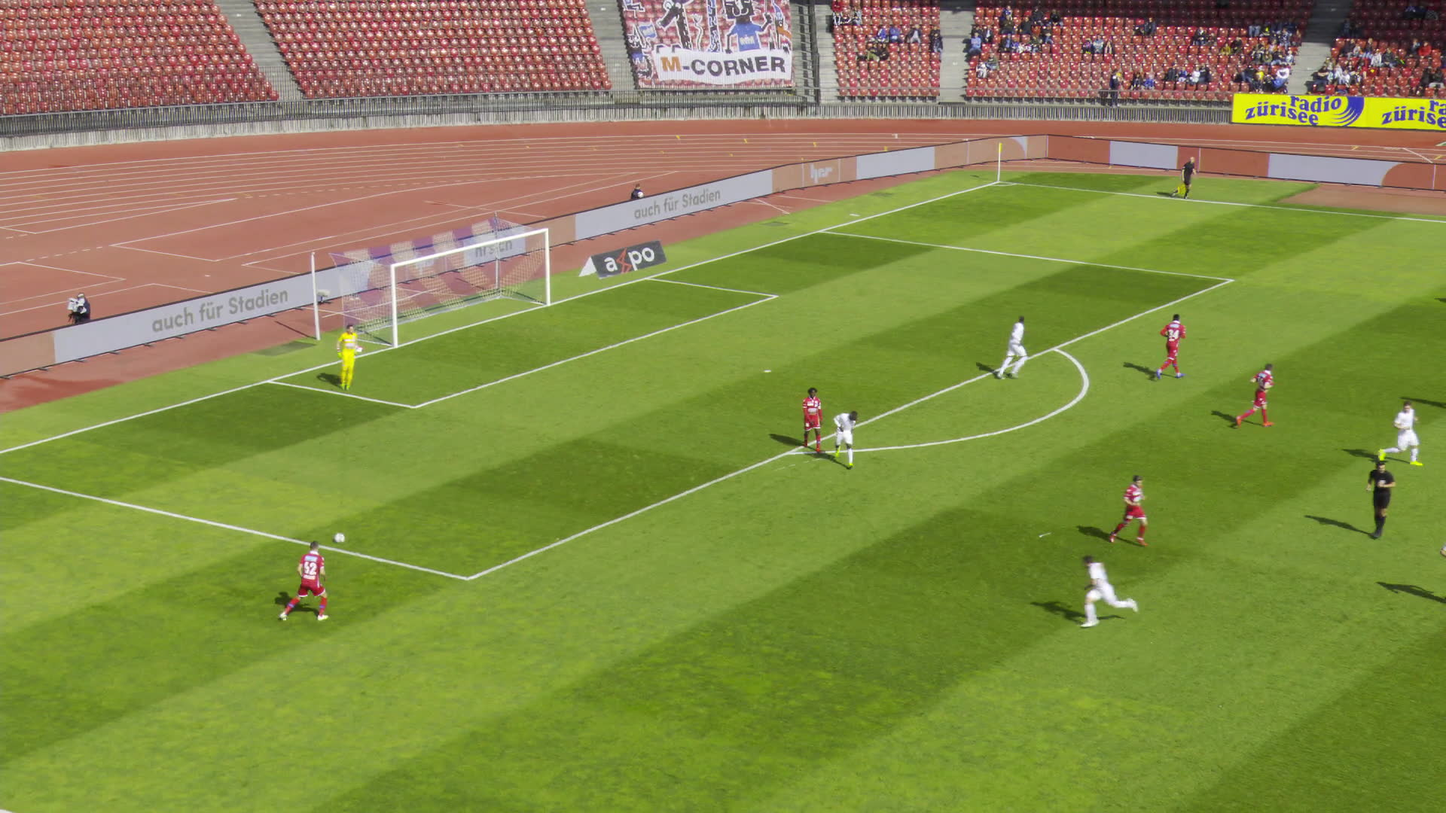ball: (334, 528, 344, 539)
player: (1075, 556, 1138, 627), (279, 540, 328, 621), (1377, 401, 1425, 464), (1109, 474, 1149, 546), (1236, 363, 1274, 427), (1155, 313, 1186, 379), (997, 315, 1027, 379), (832, 410, 857, 469), (801, 386, 823, 452), (335, 323, 356, 390), (1431, 516, 1445, 564)
referee: (1365, 461, 1395, 539), (1182, 156, 1195, 199)
